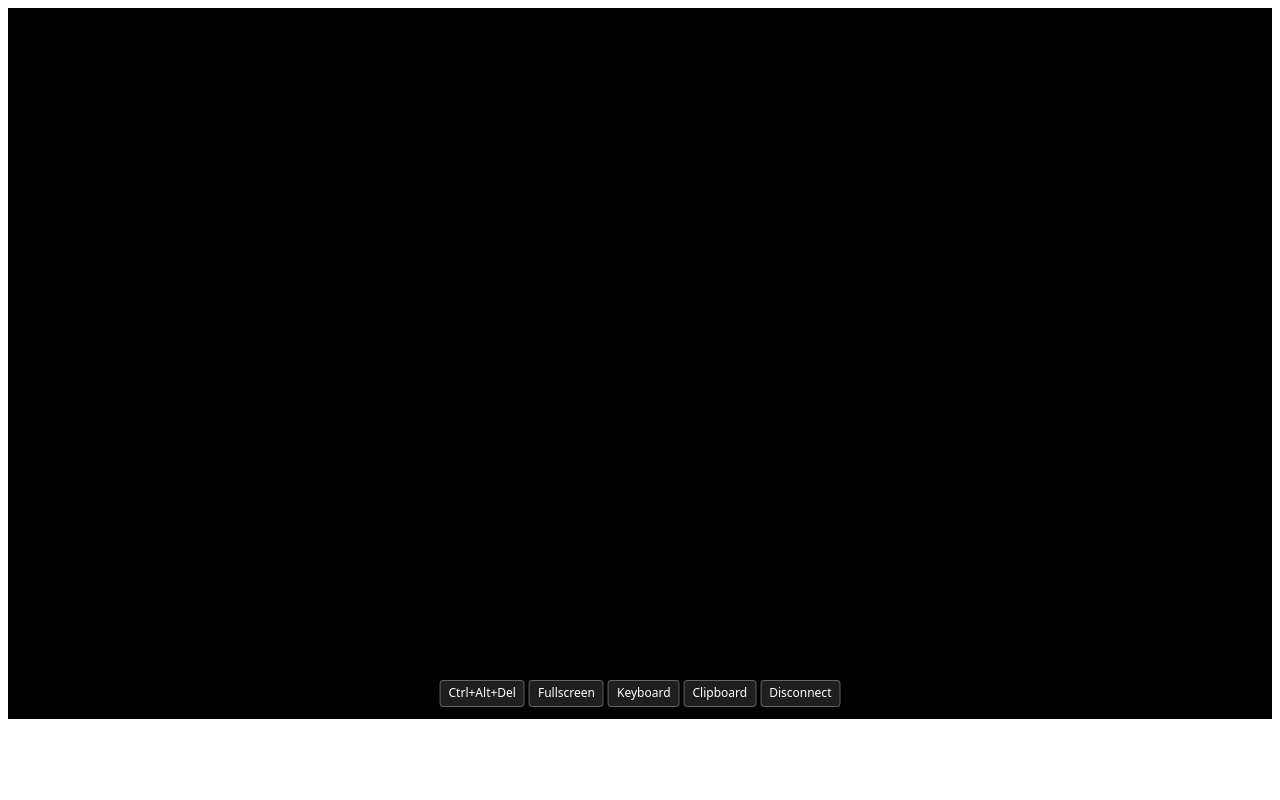
it: RustDeskViewer › opens a paste prompt when the Clipboard API is unavailable (HTTP)
Click the button "Clipboard": (720, 694) 684,680 -> 756,707
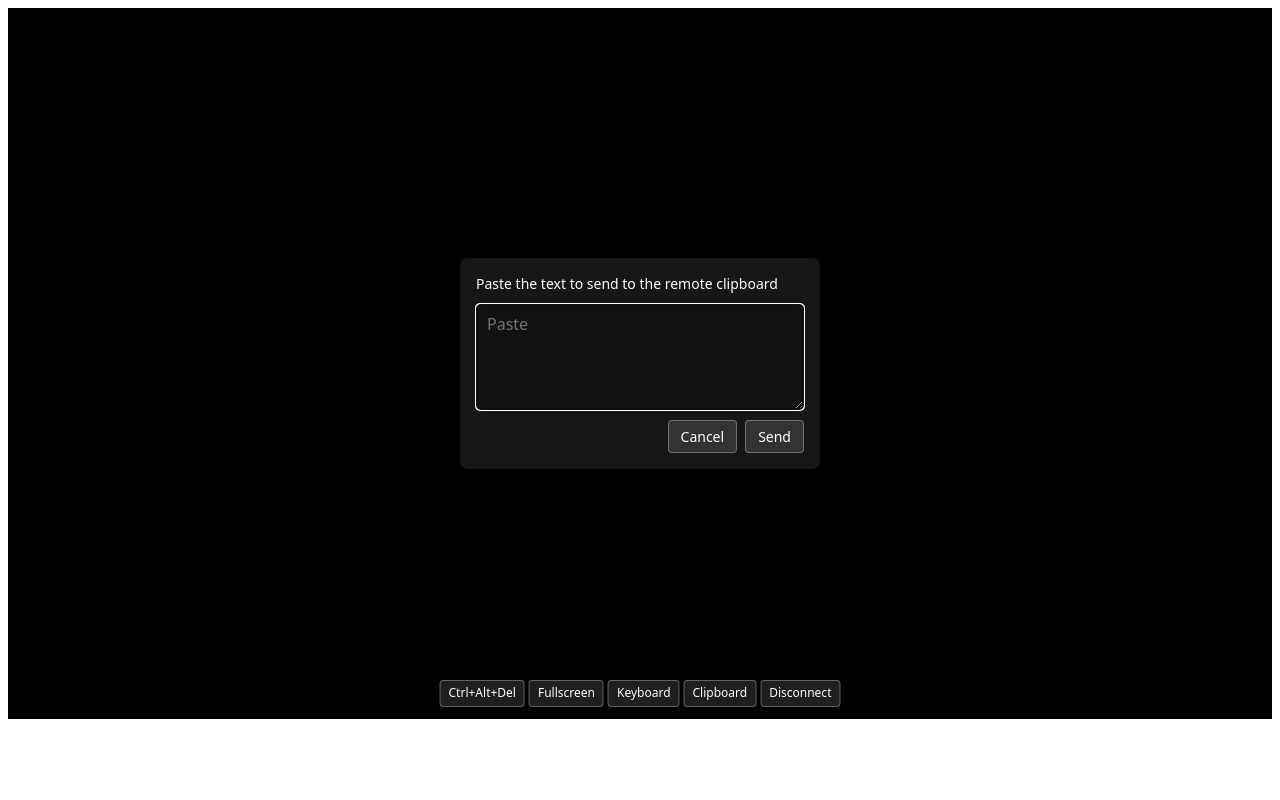
In the text box labelled "Paste the text to send to the remote clipboard": (640, 356) 476,304 -> 804,410, type "本地文本"
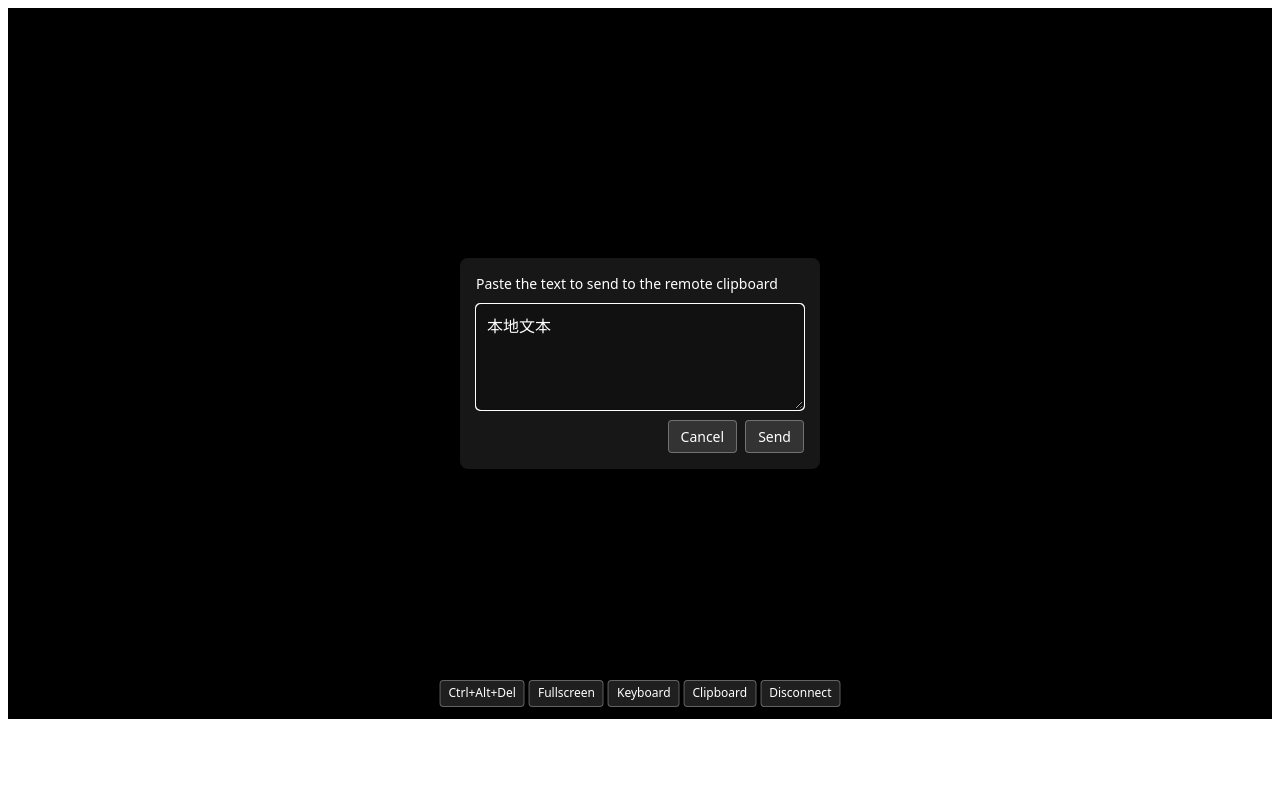
Click the button "Send": (775, 436) 745,420 -> 804,453
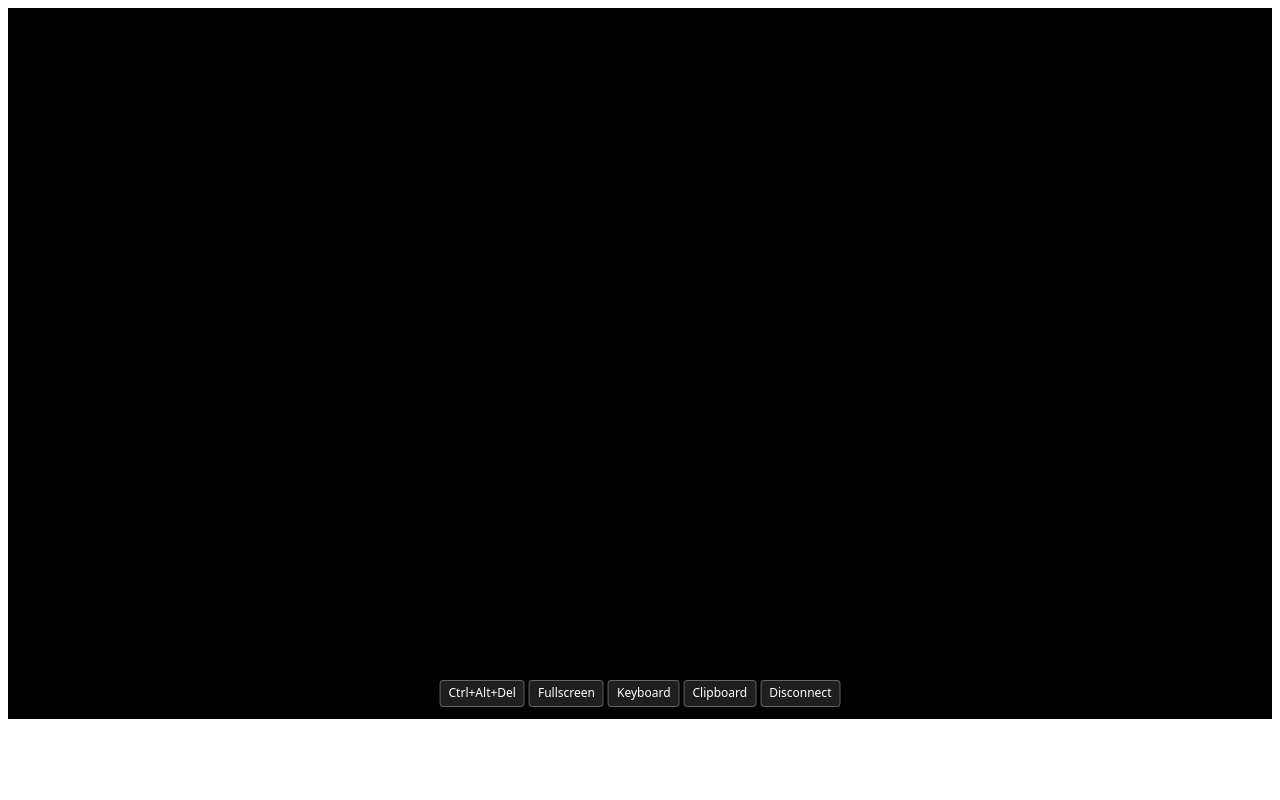
expect the label labelled "Paste the text to send to the remote clipboard" is gone: met
